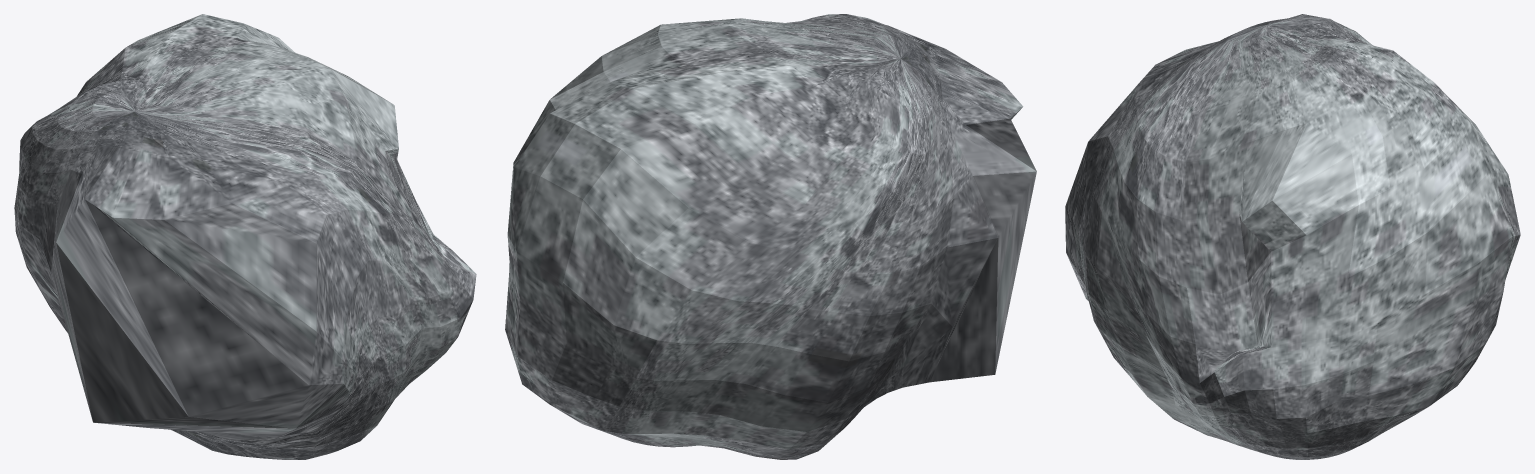
File: rock2.glb
3 renders of one model, left to right at view 1: azimuth 30°, elevation 25°; view 2: azimuth 150°, elevation 25°; view 3: azimuth 270°, elevation 25°, orthographic. The views are drawn at different scales.
Parts seen in each view (by area): view 1: Sphere; view 2: Sphere; view 3: Sphere.
Boxes of the visible parts, box(x1,y1,x2,y2) form: Sphere: box(14, 14, 476, 459); Sphere: box(505, 14, 1036, 459); Sphere: box(1065, 14, 1520, 459).
Bounding box in the file's own units: 15.85 × 13.77 × 16.01.
1 material, 1 textured.
